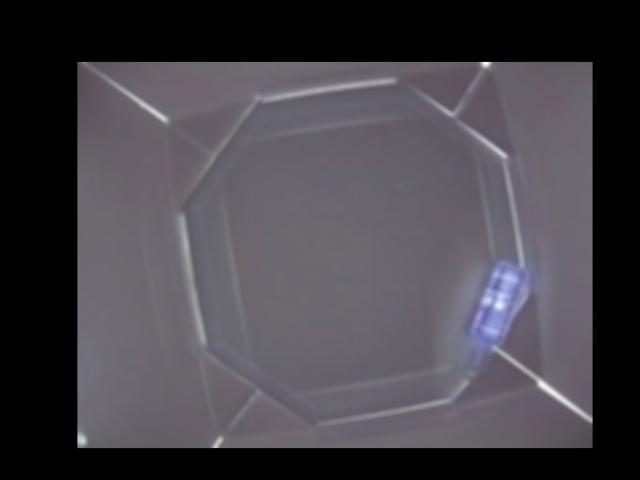Bottle: (459, 263, 530, 383)
